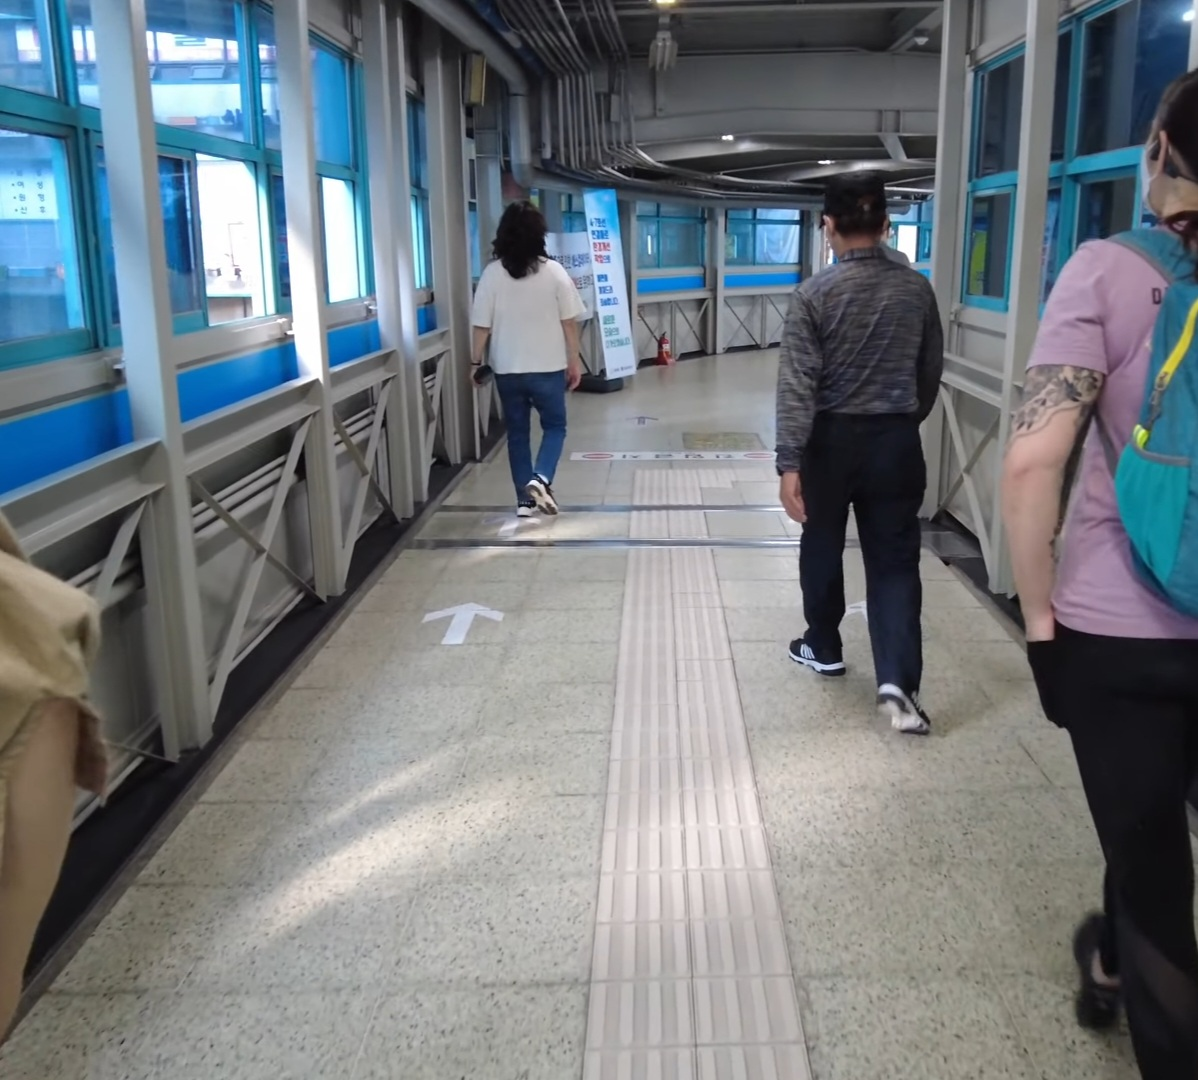guideBlock: (699, 988, 810, 1080), (592, 996, 705, 1080), (696, 869, 787, 944), (698, 919, 787, 989), (595, 933, 698, 992), (600, 874, 700, 934), (686, 819, 764, 894), (612, 827, 684, 863)
